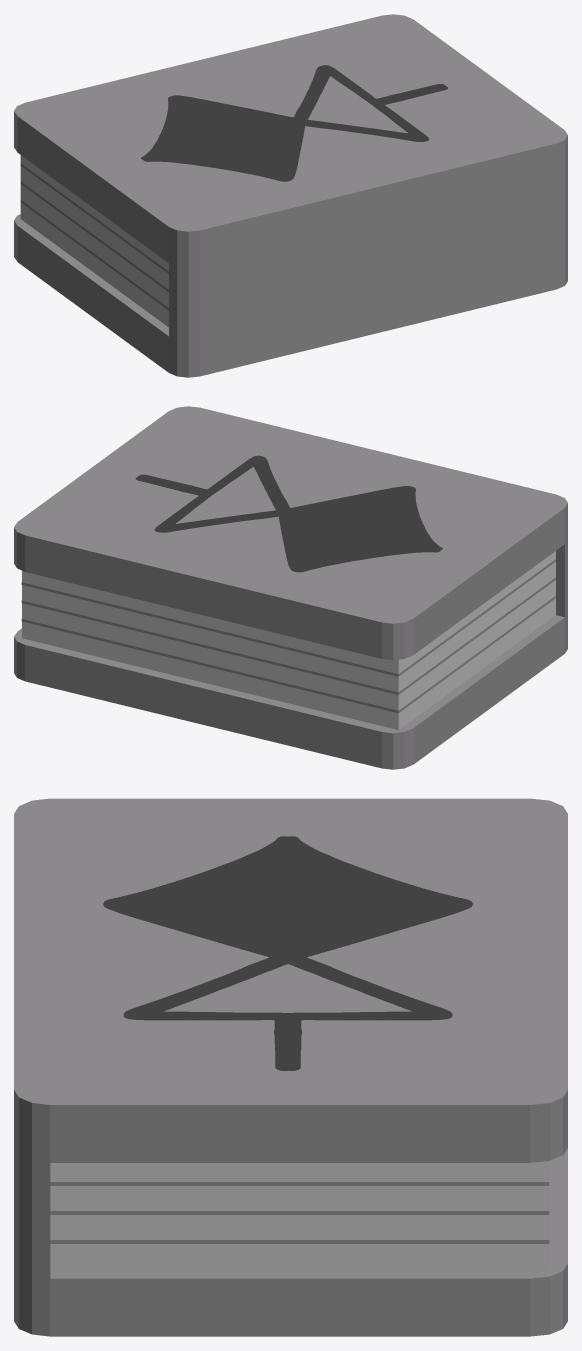
File: diary-HUMAN.fbx
3 renders of one model, top to bottom at view 1: azimuth 30°, elevation 25°; view 2: azimuth 150°, elevation 25°; view 3: azimuth 270°, elevation 25°, orthographic. The views are drawn at different scales.
Parts seen in each view (by area): view 1: Cube; view 2: Cube; view 3: Cube.
Part boxes in pixels (<box>): Cube: <box>14,14,567,377</box>; Cube: <box>14,406,567,769</box>; Cube: <box>14,798,567,1336</box>.
Bounding box in the file's own units: 132 × 46.59 × 101.
Materials: 4 (1 with a texture image).
